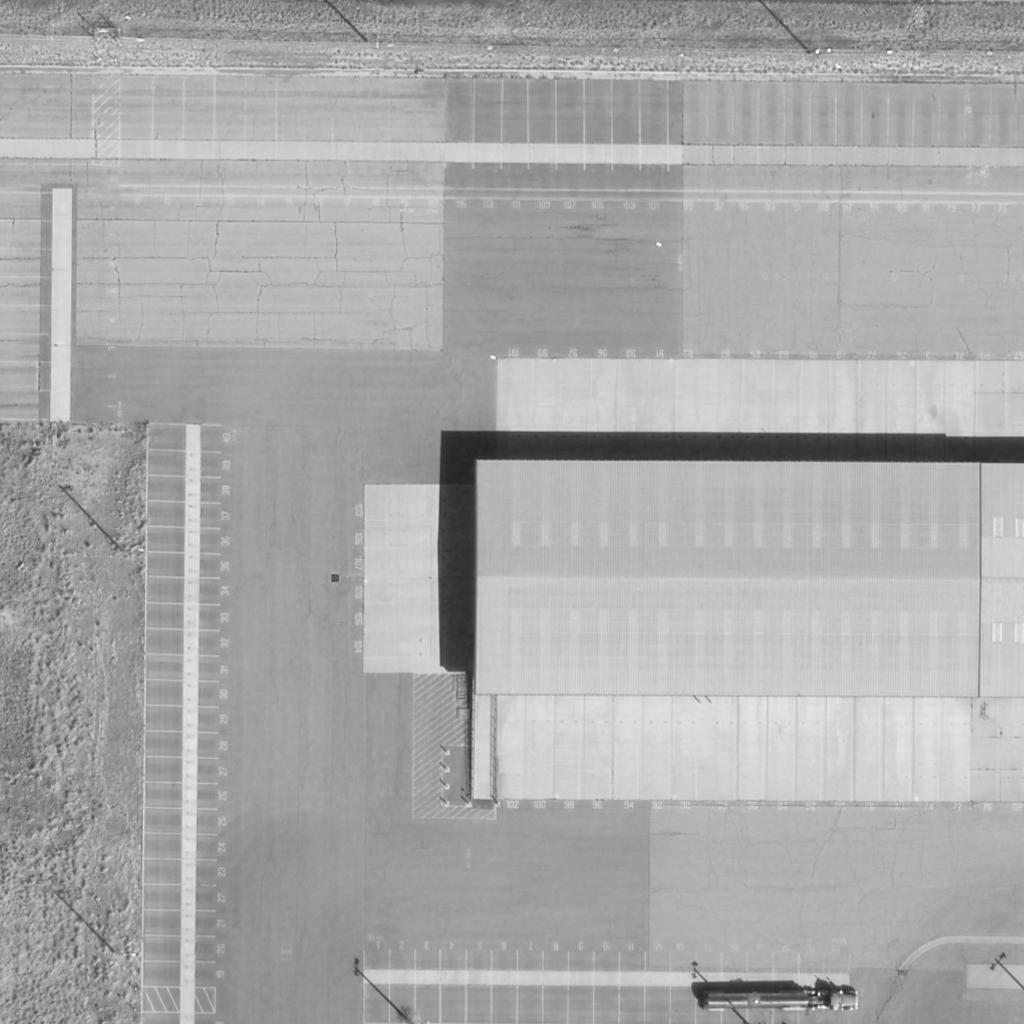vehicle: (703, 987, 859, 1013)
